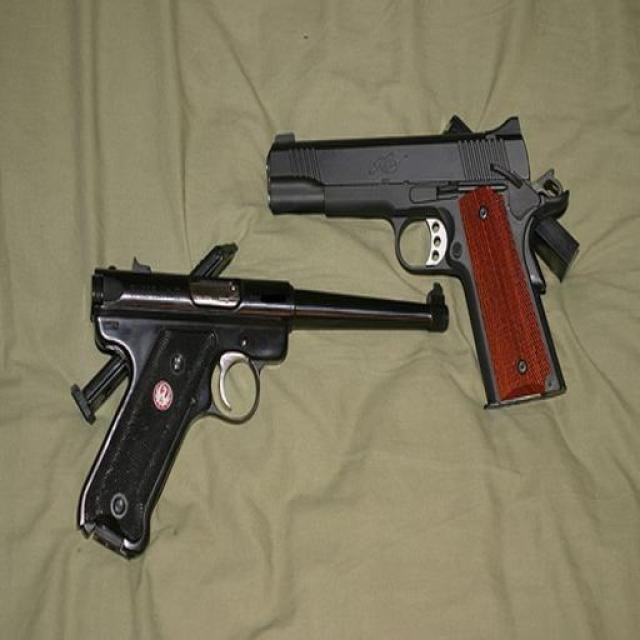pistol: (69, 272, 453, 552), (259, 99, 568, 413)
